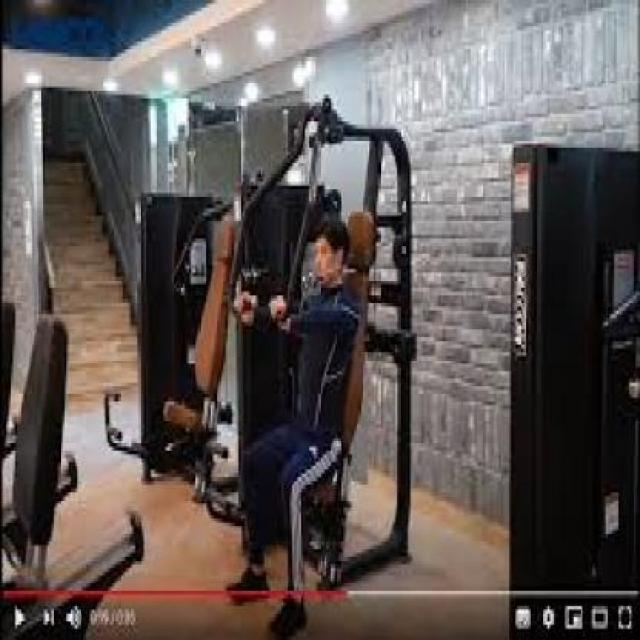chest fly machine: (157, 91, 428, 640)
